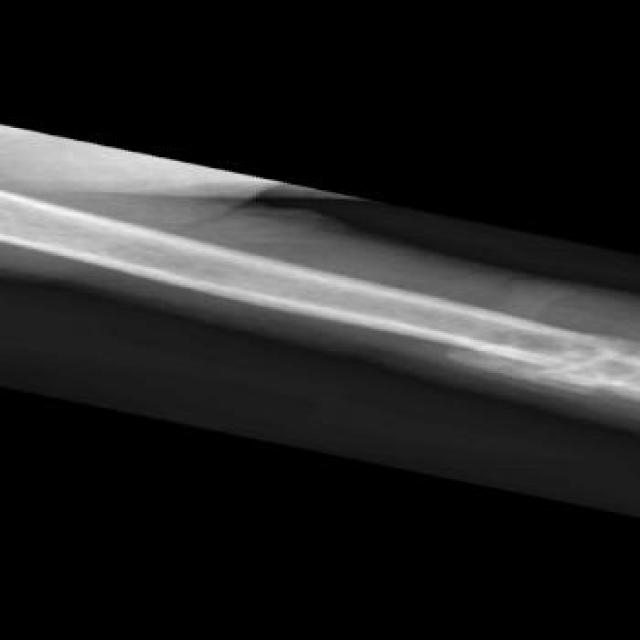Fracture: (504, 321, 640, 402)
